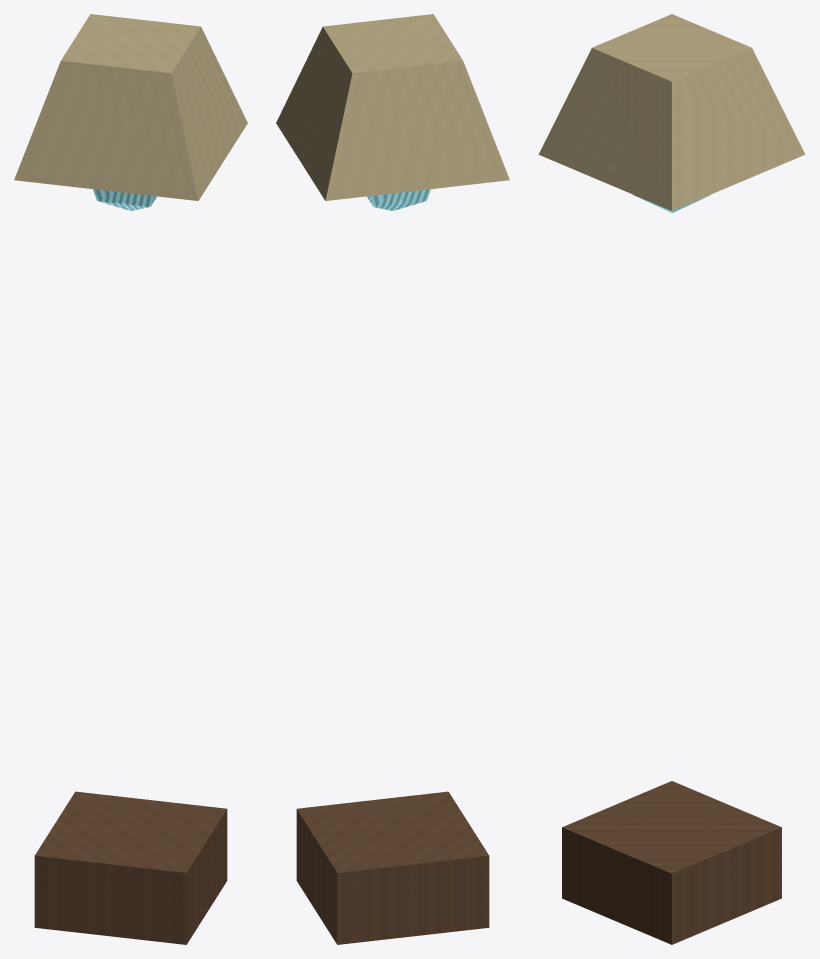
File: atlas100-clockwork-util01.lod2.glb
3 renders of one model, left to right at view 1: azimuth 30°, elevation 25°; view 2: azimuth 150°, elevation 25°; view 3: azimuth 270°, elevation 25°, orthographic.
Parts seen in each view (by area): view 1: atlas100-clockwork-util01:part-002, atlas100-clockwork-util01:part-000, atlas100-clockwork-util01:part-003; view 2: atlas100-clockwork-util01:part-002, atlas100-clockwork-util01:part-000, atlas100-clockwork-util01:part-003; view 3: atlas100-clockwork-util01:part-002, atlas100-clockwork-util01:part-000.
Boxes of the visible parts, bbox=[...] form: atlas100-clockwork-util01:part-002: bbox=[14, 14, 247, 200]; atlas100-clockwork-util01:part-000: bbox=[34, 791, 227, 944]; atlas100-clockwork-util01:part-003: bbox=[93, 189, 156, 210]; atlas100-clockwork-util01:part-002: bbox=[276, 14, 509, 200]; atlas100-clockwork-util01:part-000: bbox=[296, 791, 489, 944]; atlas100-clockwork-util01:part-003: bbox=[367, 189, 430, 210]; atlas100-clockwork-util01:part-002: bbox=[538, 14, 805, 210]; atlas100-clockwork-util01:part-000: bbox=[562, 781, 781, 944].
Size of the model in its own units: 0.7426 by 2.61 by 0.7426.
Materials: 3 (3 with a texture image).
